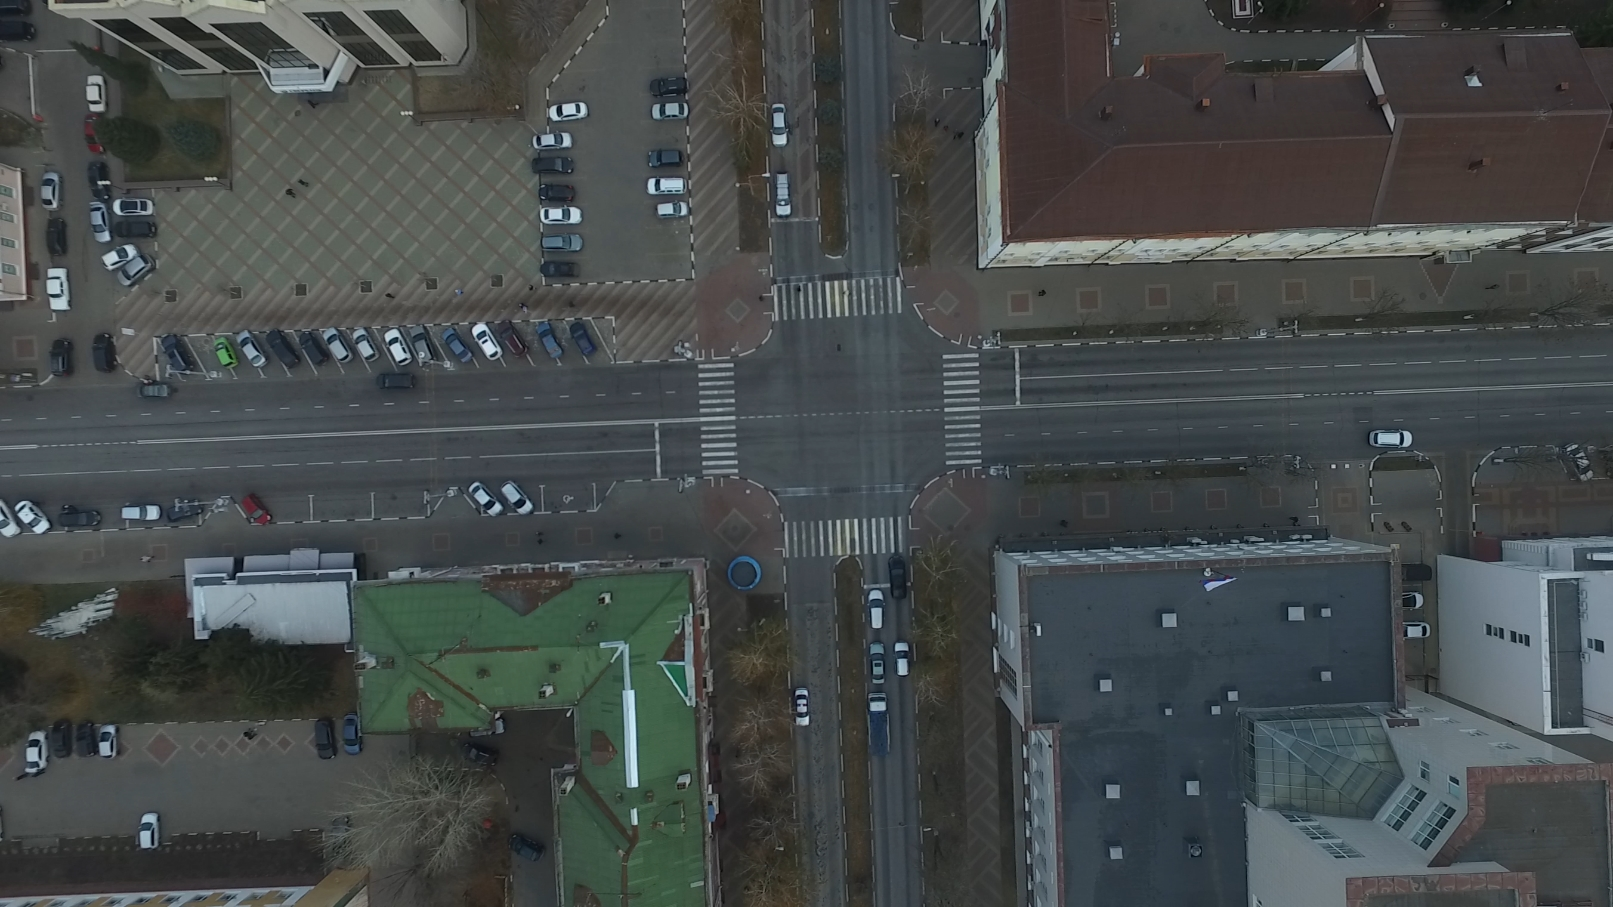car: (155, 334, 195, 377), (466, 481, 507, 518), (866, 691, 888, 759), (261, 328, 297, 370), (318, 324, 353, 365), (115, 255, 156, 290), (1562, 443, 1596, 485), (229, 330, 265, 370), (44, 269, 74, 315), (14, 501, 49, 539), (405, 323, 436, 365), (497, 320, 532, 358), (439, 327, 473, 364), (23, 729, 51, 775), (468, 321, 501, 359), (505, 834, 544, 866), (382, 326, 414, 364), (326, 813, 353, 857), (533, 320, 563, 361), (459, 744, 499, 774), (497, 482, 531, 517), (160, 501, 204, 527), (350, 327, 383, 362), (45, 720, 74, 760), (91, 331, 117, 374), (100, 243, 140, 271), (38, 171, 65, 212), (115, 219, 160, 245), (86, 200, 112, 244), (292, 331, 323, 367), (866, 586, 891, 630), (134, 810, 160, 852), (83, 115, 107, 158), (83, 159, 109, 200), (540, 207, 585, 229), (312, 718, 336, 761), (339, 714, 362, 757), (81, 76, 107, 114), (242, 494, 273, 526), (110, 199, 154, 221), (1368, 427, 1412, 450), (769, 105, 791, 150), (540, 101, 586, 122), (566, 324, 595, 358), (48, 336, 71, 377), (208, 337, 235, 372), (376, 371, 419, 392), (650, 100, 694, 121), (542, 234, 586, 254), (56, 511, 103, 529), (527, 157, 574, 176), (793, 682, 812, 729), (645, 147, 684, 169), (650, 75, 689, 97), (774, 174, 793, 219), (888, 555, 907, 600), (72, 722, 95, 759), (96, 725, 122, 759), (647, 176, 689, 196), (538, 183, 578, 203), (528, 133, 571, 152), (653, 200, 691, 220), (45, 216, 65, 254), (137, 383, 177, 402), (540, 262, 582, 280), (121, 505, 162, 522), (1, 22, 37, 41), (1, 501, 18, 540), (893, 641, 910, 681), (1400, 563, 1431, 584), (869, 642, 883, 686), (1403, 621, 1434, 638), (1399, 591, 1422, 609)
